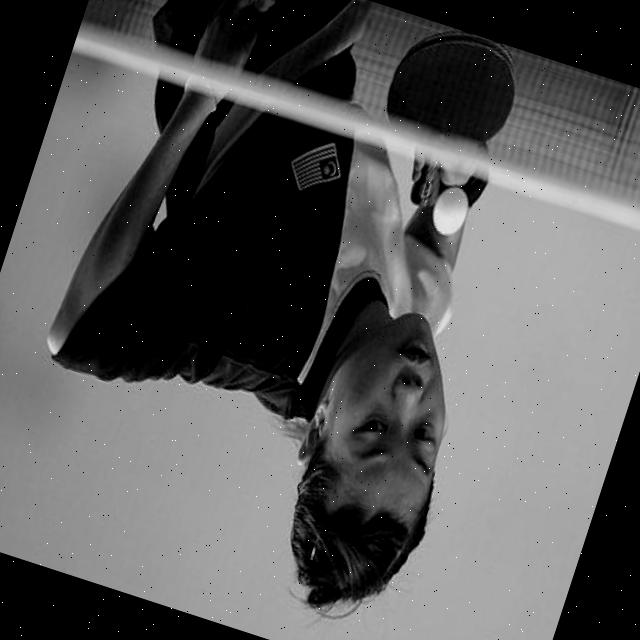ping-pong-ball: (426, 180, 474, 240)
